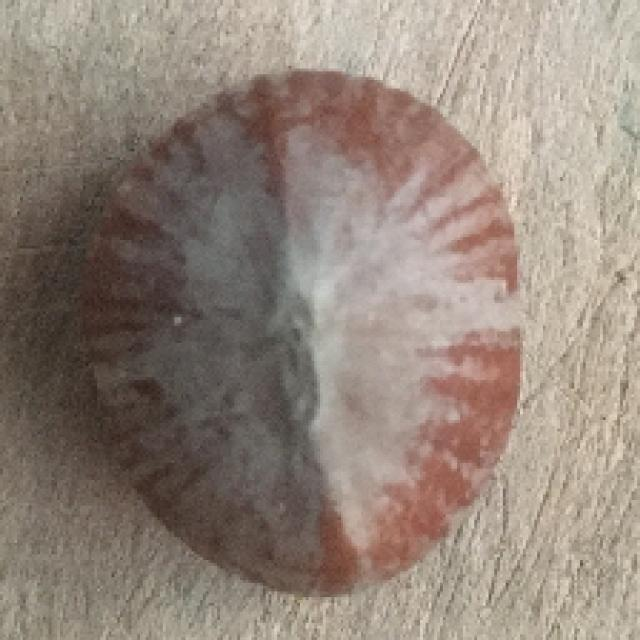qualityHazelnut: (78, 68, 526, 592)
